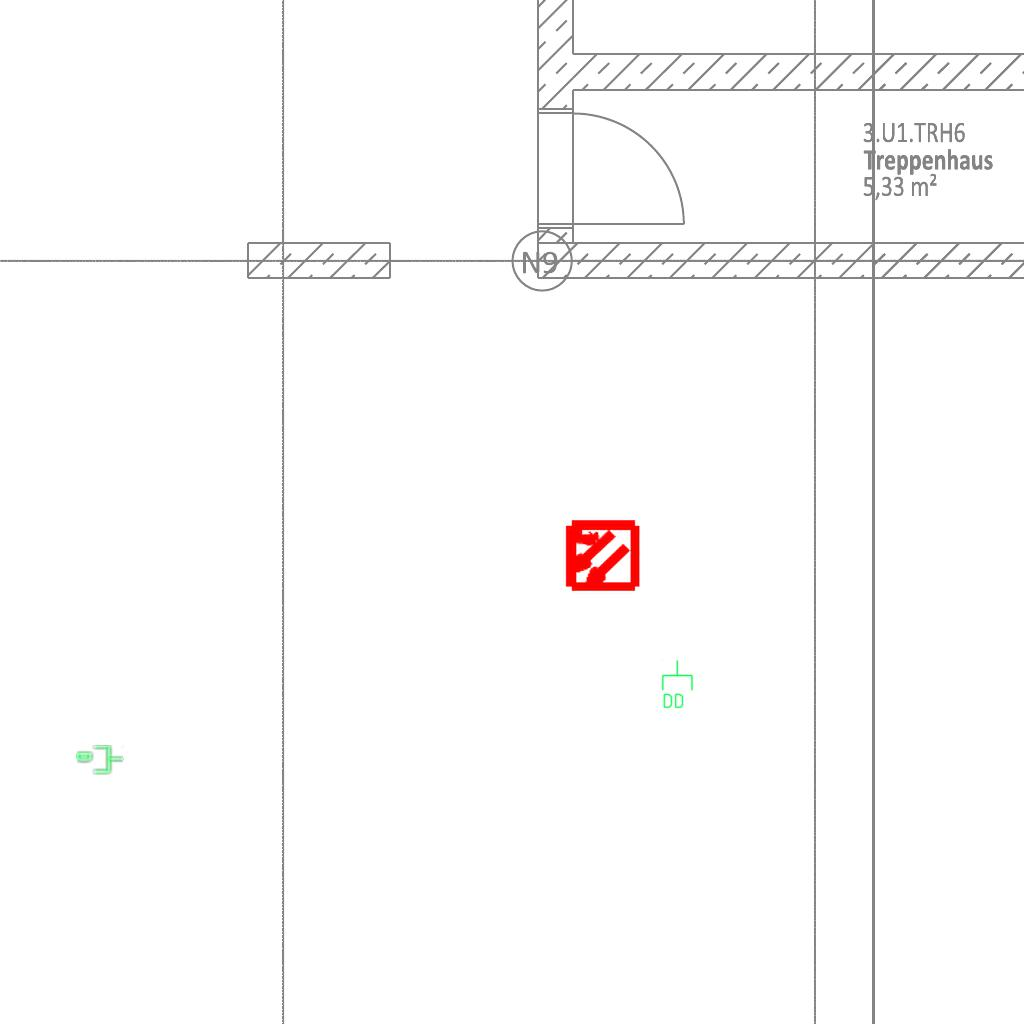Datenanschluss_einfach: (75, 743, 125, 777)
Datenanschluss_zweifach: (660, 659, 694, 710)
OT_Multisensormelder_(Kombination_RMO_WMD): (544, 499, 657, 612)
